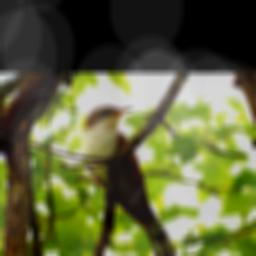Cuckoo: (79, 105, 181, 256)
